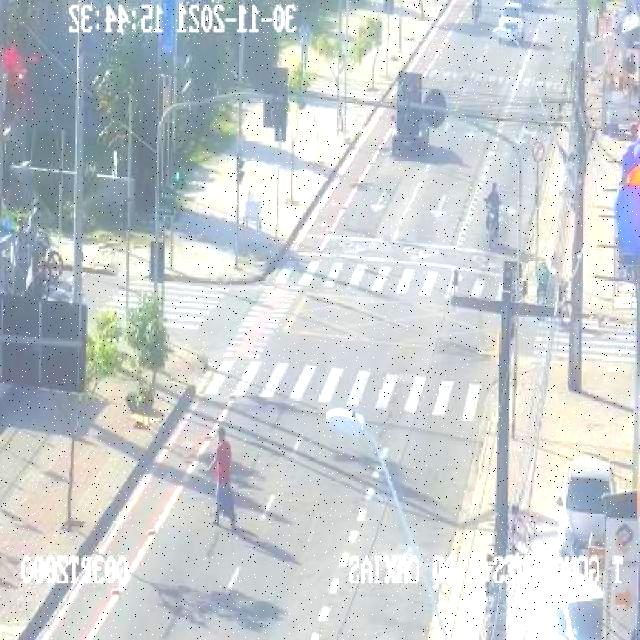Car: (493, 537, 603, 638), (544, 454, 618, 550), (484, 0, 536, 54)
Cycle: (464, 164, 514, 253), (24, 239, 74, 295)
